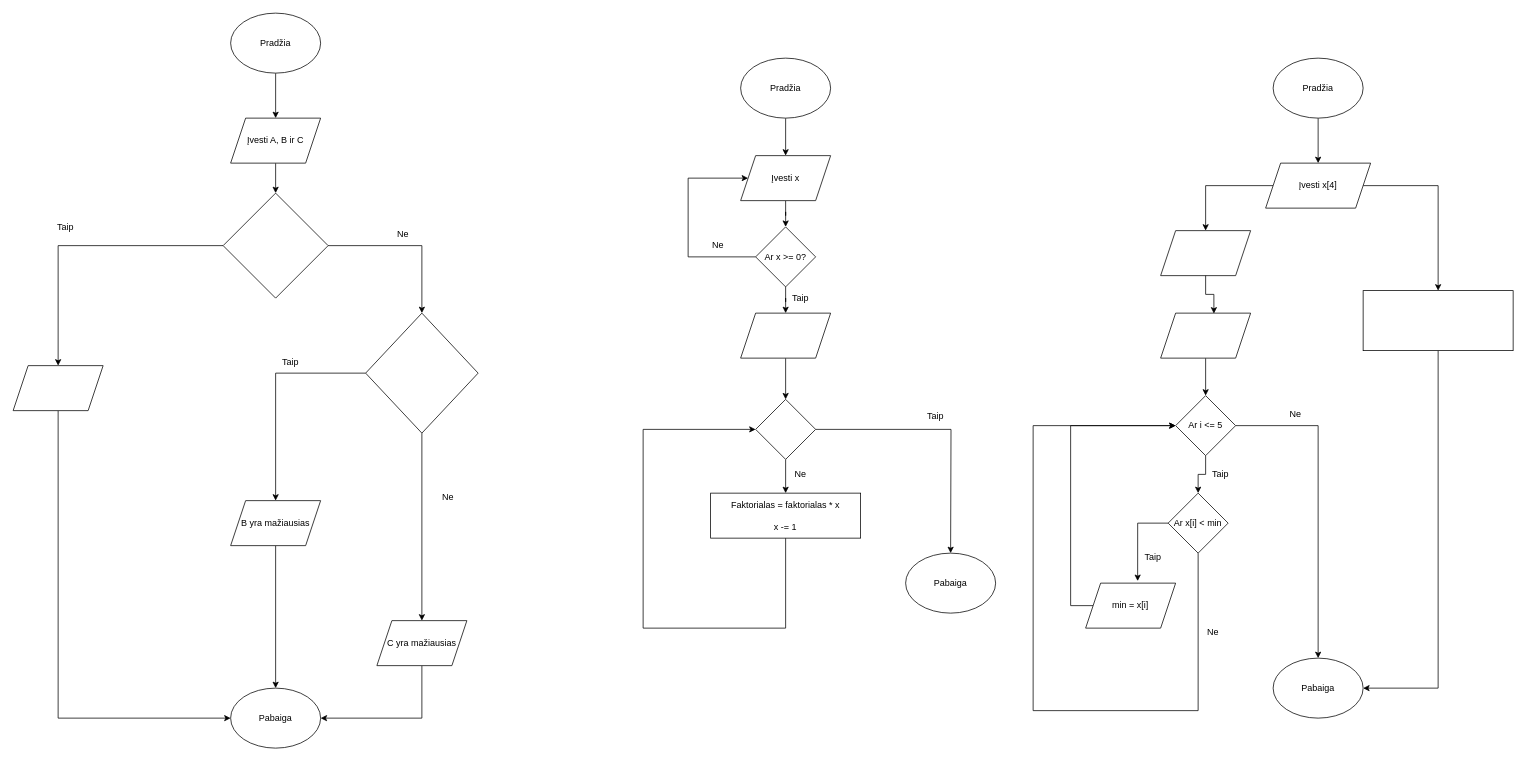
Image size: 1526x761. Some labels were removed from this diagram. The centre of each missing label's shape, as x and y in pixels:
"A yra mažiausias" goes at [57,388].
"Ar A < B ir A < C?" goes at [275,245].
"Ar B < A ir B < C?" goes at [421,372].
"Ar x < = 0?" goes at [785,429].
"Faktorialas = 1" goes at [785,335].
"i = 0" goes at [1205,253].
"min = 10000001" goes at [1205,335].
"vid = (x[0] + x[1] + x[2] + x[3] + x[4]) / 5" goes at [1437,320].
